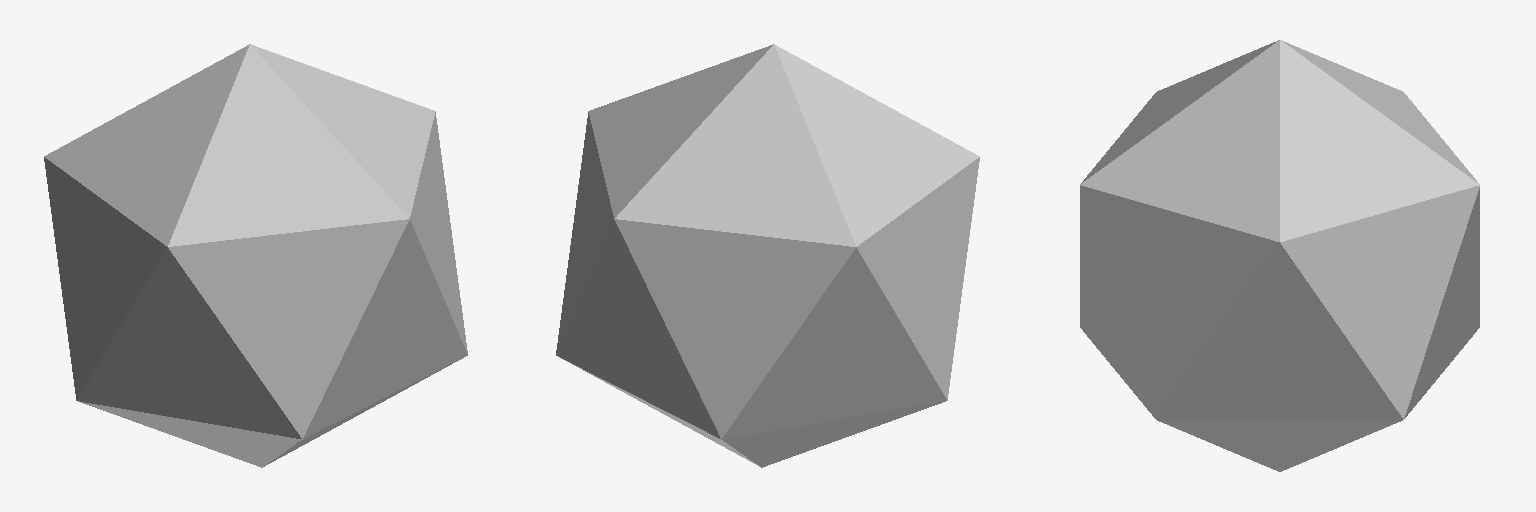
The model's file is resource.obj.
The picture shows the model from 3 angles: view 1: azimuth 30°, elevation 25°; view 2: azimuth 150°, elevation 25°; view 3: azimuth 270°, elevation 25°; orthographic projection.
Visible parts, largest first — view 1: Platonic; view 2: Platonic; view 3: Platonic.
Part boxes in pixels (x1,y1,x2,y2): Platonic: (44, 44, 467, 467); Platonic: (556, 44, 979, 467); Platonic: (1080, 40, 1479, 471).
Size of the model in its own units: 16.75 by 19.01 by 16.18.